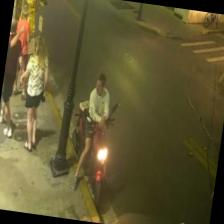person: (70, 71, 114, 192)
